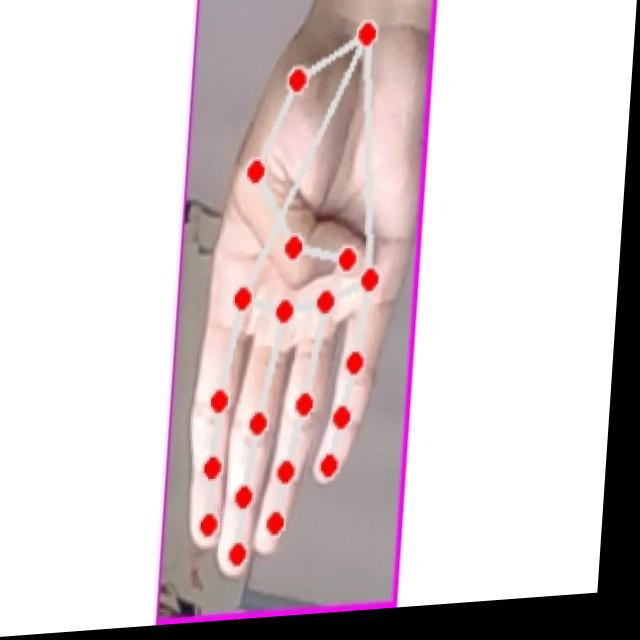B: (179, 5, 432, 592)
